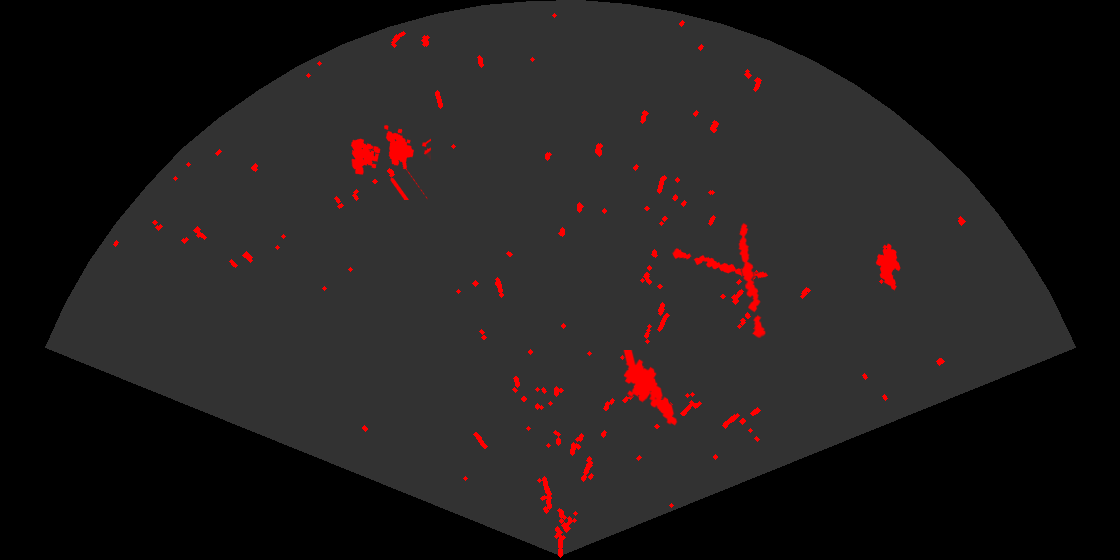AUV: (874, 242, 902, 292)
cage: (349, 123, 431, 200)
chain: (737, 221, 767, 341), (670, 247, 770, 280)
frogman: (622, 350, 679, 427)
